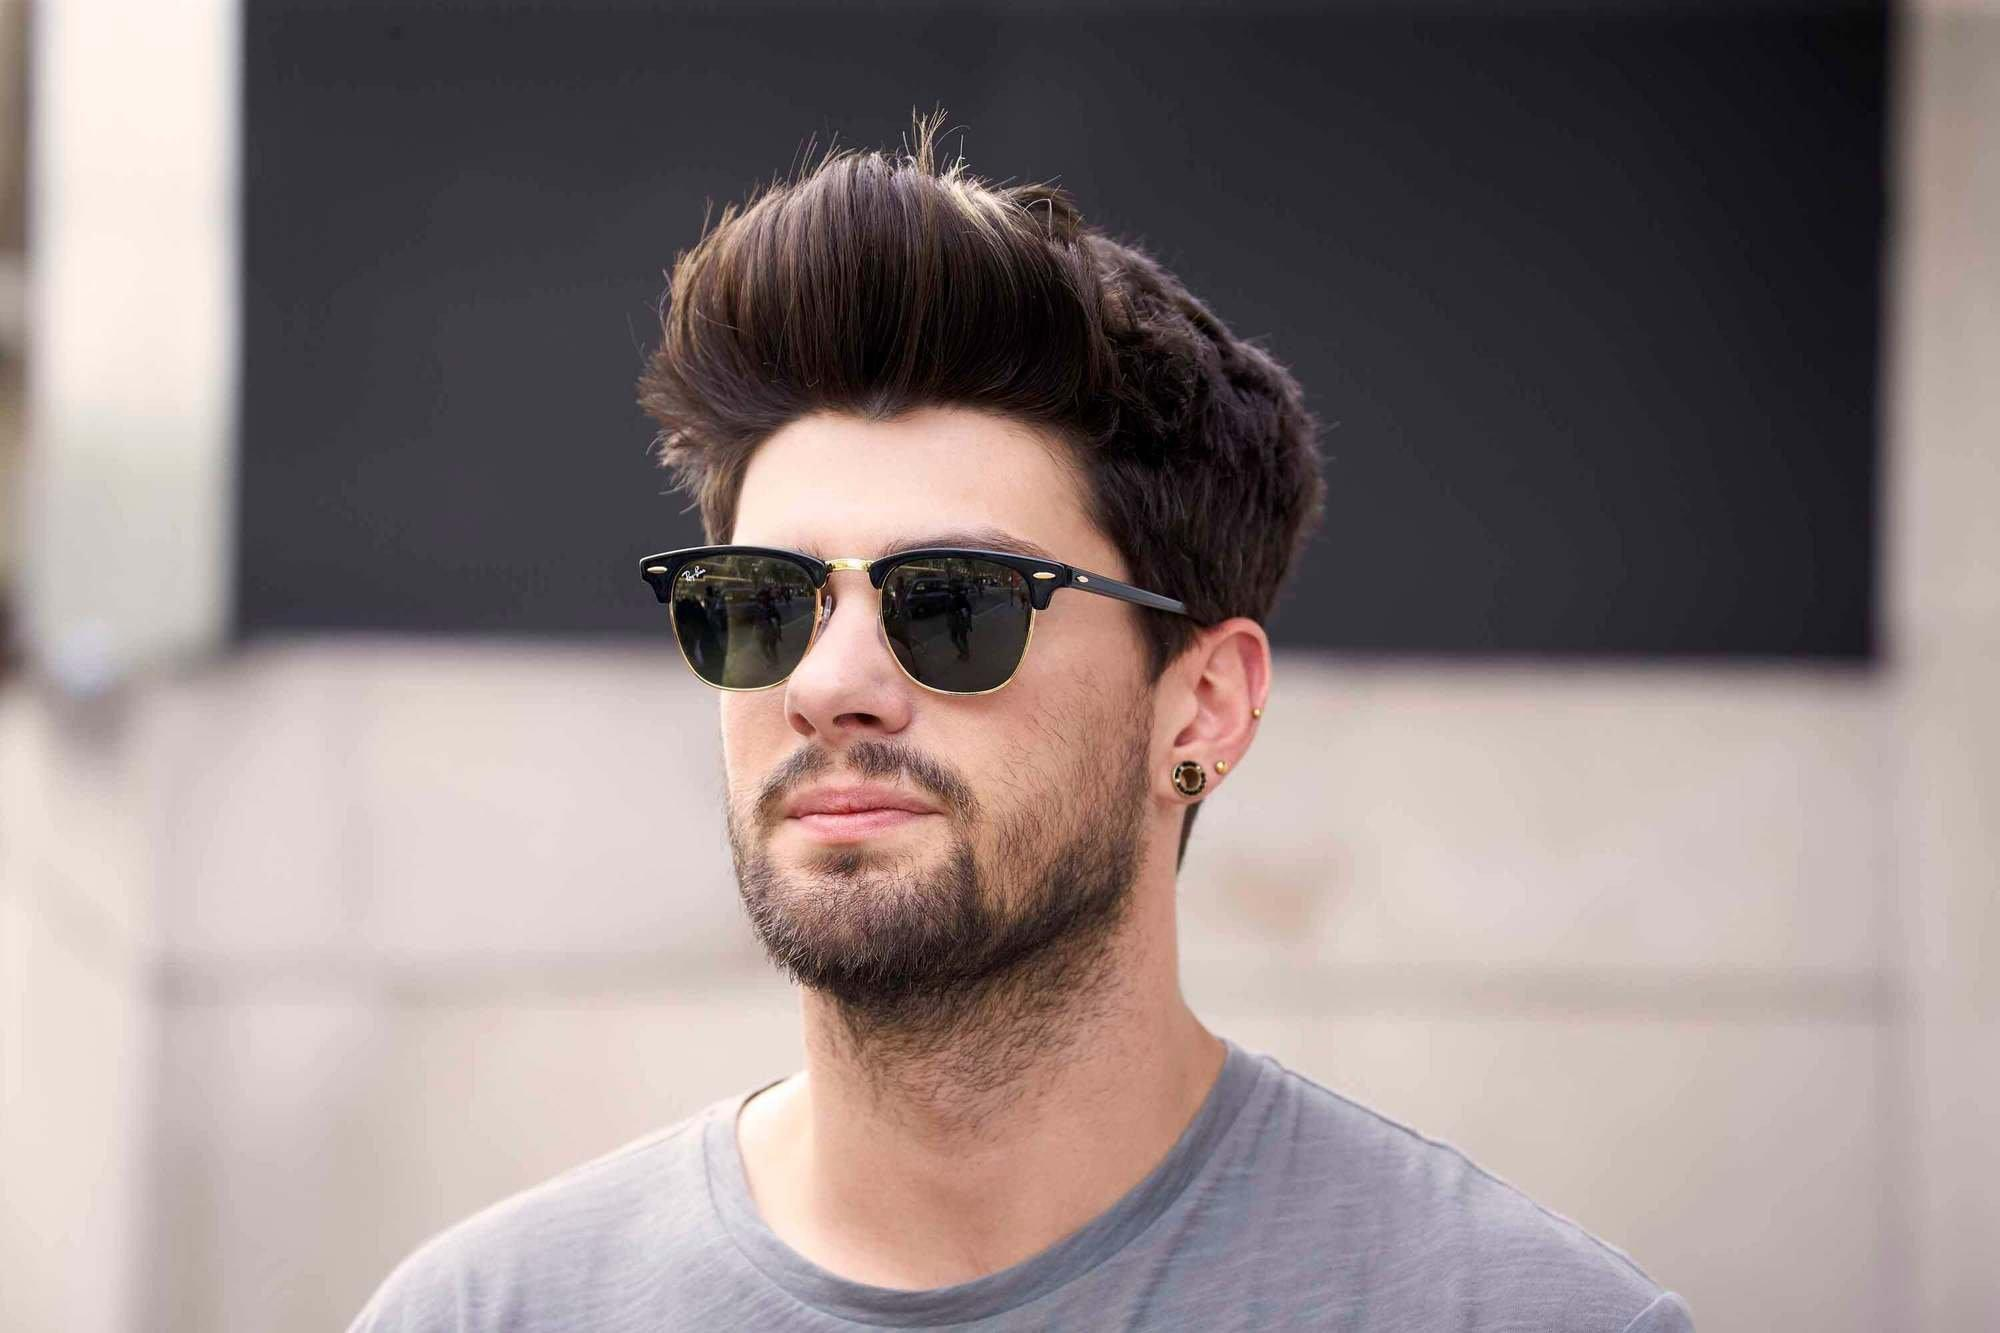Sober: (721, 427, 1132, 952)
